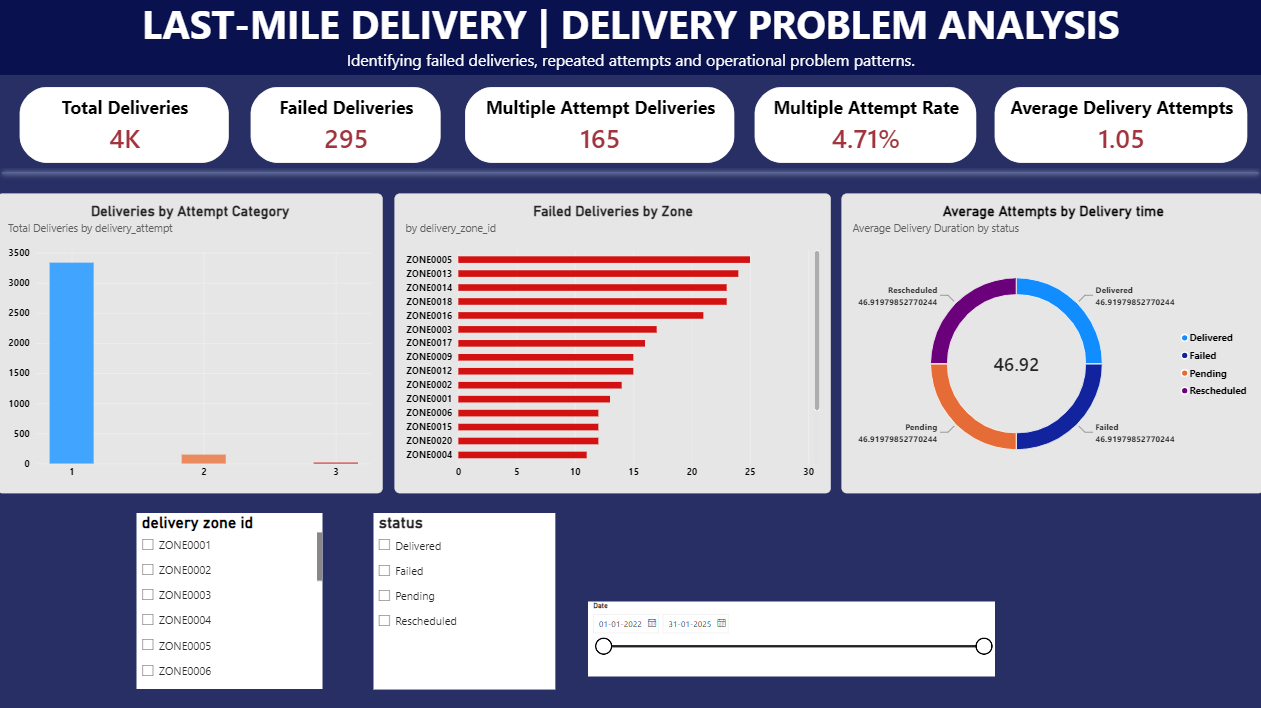

This screenshot's page, from the dashboard's own definition file:
{"tool":"powerbi","page":{"name":"Page 6","canvas":[1920,1080],"ordinal":5},"visuals":[{"type":"textbox","box":[0,0,1919.3,118.1],"z":0},{"type":"cardVisual","fields":{"Data":["Delivery Problems.Multiple Attempt Deliveries"]},"box":[708.6,136.3,408.8,115.8],"z":1000},{"type":"cardVisual","fields":{"Data":["Delivery Problems.Multiple Attempt Rate"]},"box":[1147,136.3,336.2,115.8],"z":2000},{"type":"cardVisual","fields":{"Data":["Delivery Problems.Average Delivery Attempts"]},"box":[1510.4,136.3,383.9,115.8],"z":3000},{"type":"shape","box":[0,254.4,1920,25],"z":4000},{"type":"cardVisual","fields":{"Data":["Delivery Performance.Total Deliveries"]},"box":[34.1,136.3,317.5,115],"z":5000},{"type":"cardVisual","fields":{"Data":["Delivery Performance.Failed Deliveries"]},"box":[383.9,136.3,288.5,115.8],"z":6000},{"type":"clusteredColumnChart","title":"Deliveries by Attempt Category","fields":{"Category":["deliveries.delivery_attempt"],"Y":["Delivery Performance.Total Deliveries"]},"box":[0,297.5,583.7,454.3],"z":7000},{"type":"clusteredBarChart","fields":{"Category":["orders.delivery_zone_id"],"Y":["Delivery Performance.Failed Deliveries by Zone"]},"box":[601.9,297.5,661,454.3],"z":8000},{"type":"donutChart","title":"Average Attempts by Delivery time","fields":{"Category":["deliveries.status"],"Y":["Delivery Performance.Average Delivery Duration"]},"box":[1278.7,297.5,640.5,454.3],"z":9000},{"type":"slicer","fields":{"Values":["orders.delivery_zone_id"]},"box":[211.2,781.3,281.6,265.7],"z":10000},{"type":"slicer","fields":{"Values":["date_table.Date"]},"box":[894.9,915.3,615.5,113.6],"z":11000},{"type":"slicer","fields":{"Values":["deliveries.status"]},"box":[570.1,781.3,275,267.5],"z":12000}]}

Visuals, with their boxes in screenshot pixels (x1, y1, x2, y2), scaled from the page's 1920x1080 canvas onto the 1261x708 screenshot:
textbox: bbox=[0, 0, 1260, 77]
cardVisual - Delivery Problems.Multiple Attempt Deliveries: bbox=[465, 89, 734, 165]
cardVisual - Delivery Problems.Multiple Attempt Rate: bbox=[753, 89, 974, 165]
cardVisual - Delivery Problems.Average Delivery Attempts: bbox=[992, 89, 1244, 165]
shape: bbox=[0, 167, 1260, 183]
cardVisual - Delivery Performance.Total Deliveries: bbox=[22, 89, 231, 165]
cardVisual - Delivery Performance.Failed Deliveries: bbox=[252, 89, 442, 165]
"Deliveries by Attempt Category" clusteredColumnChart: bbox=[0, 195, 383, 493]
clusteredBarChart - orders.delivery_zone_id x Delivery Performance.Failed Deliveries by Zone: bbox=[395, 195, 829, 493]
"Average Attempts by Delivery time" donutChart: bbox=[840, 195, 1260, 493]
slicer - orders.delivery_zone_id: bbox=[139, 512, 324, 686]
slicer - date_table.Date: bbox=[588, 600, 992, 675]
slicer - deliveries.status: bbox=[374, 512, 555, 688]
